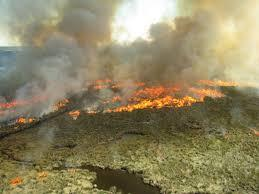fire: (67, 79, 237, 120), (0, 95, 66, 126), (8, 175, 21, 184)
yanwu: (1, 0, 259, 99)
